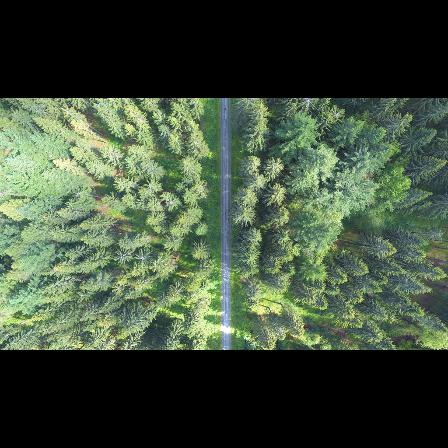Sick: (323, 107, 346, 125), (298, 98, 318, 112), (111, 282, 125, 296), (136, 251, 151, 264), (116, 251, 127, 265)
